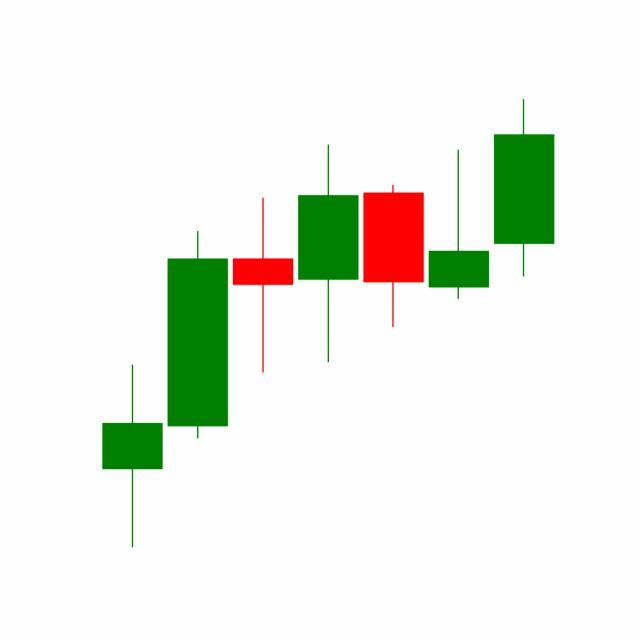Hikkake Pattern: (165, 143, 492, 444)
